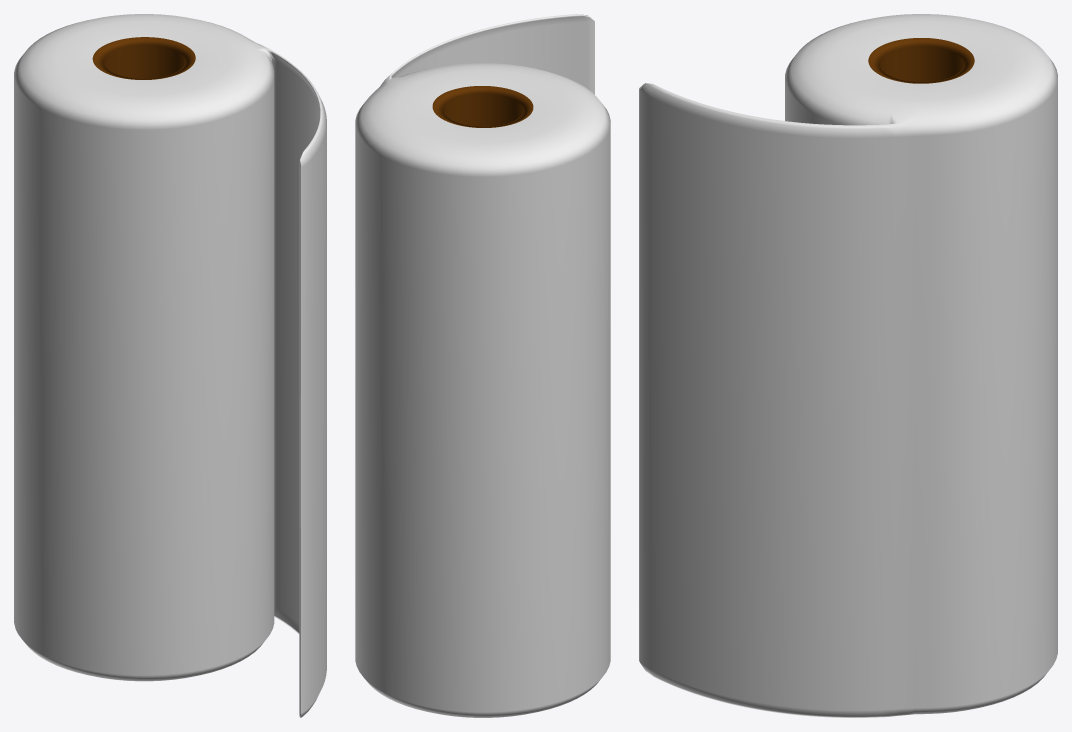
The model's file is papper.fbx.
3 renders of one model, left to right at view 1: azimuth 30°, elevation 25°; view 2: azimuth 150°, elevation 25°; view 3: azimuth 270°, elevation 25°, orthographic. The views are drawn at different scales.
Parts seen in each view (by area): view 1: pPipe5; view 2: pPipe5; view 3: pPipe5.
Boxes of the visible parts, left/top/right/bottom form: pPipe5: left=14, top=14, right=326, bottom=717; pPipe5: left=355, top=14, right=610, bottom=717; pPipe5: left=639, top=14, right=1057, bottom=717.
Bounding box in the file's own units: 1.97 × 4.71 × 2.95.
